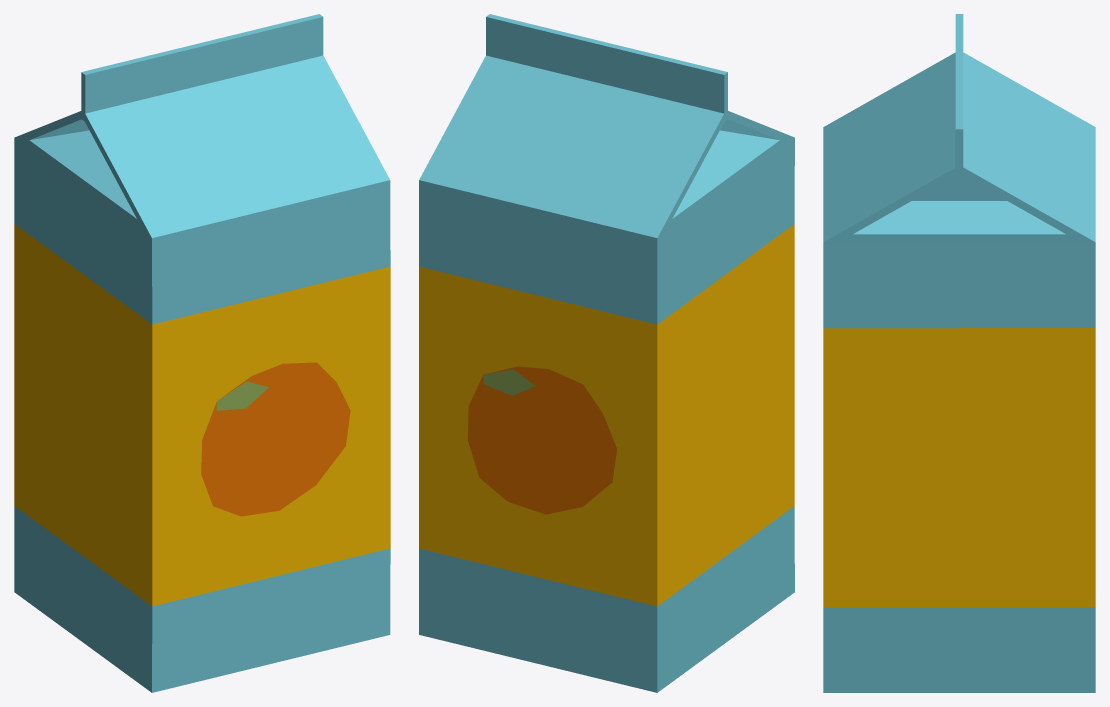
Rendered from Orange Juice Carton.fbx.
The picture shows the model from 3 angles, left to right: view 1: azimuth 30°, elevation 25°; view 2: azimuth 150°, elevation 25°; view 3: azimuth 270°, elevation 25°; orthographic projection.
Parts seen in each view (by area): view 1: Orange Juice Carton; view 2: Orange Juice Carton; view 3: Orange Juice Carton.
Part boxes in pixels (x1,y1,x2,y2): Orange Juice Carton: (14, 14, 390, 692); Orange Juice Carton: (419, 14, 794, 692); Orange Juice Carton: (823, 14, 1095, 692).
Size of the model in its own units: 22.2 by 50.6 by 22.18.
1 material, 1 textured.
